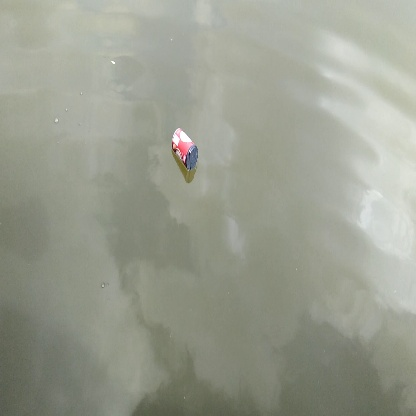bottle: (167, 125, 207, 175)
